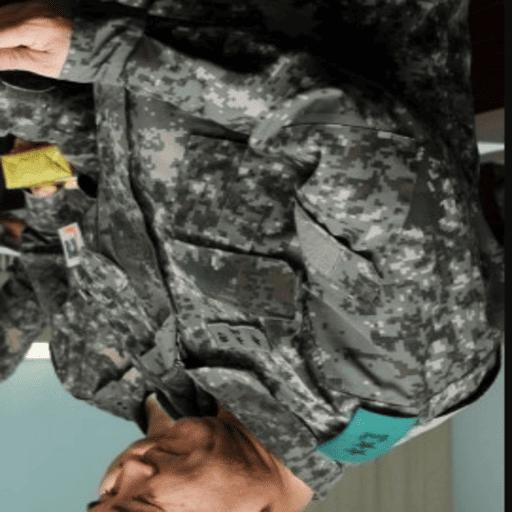korea army: (23, 0, 501, 473)
